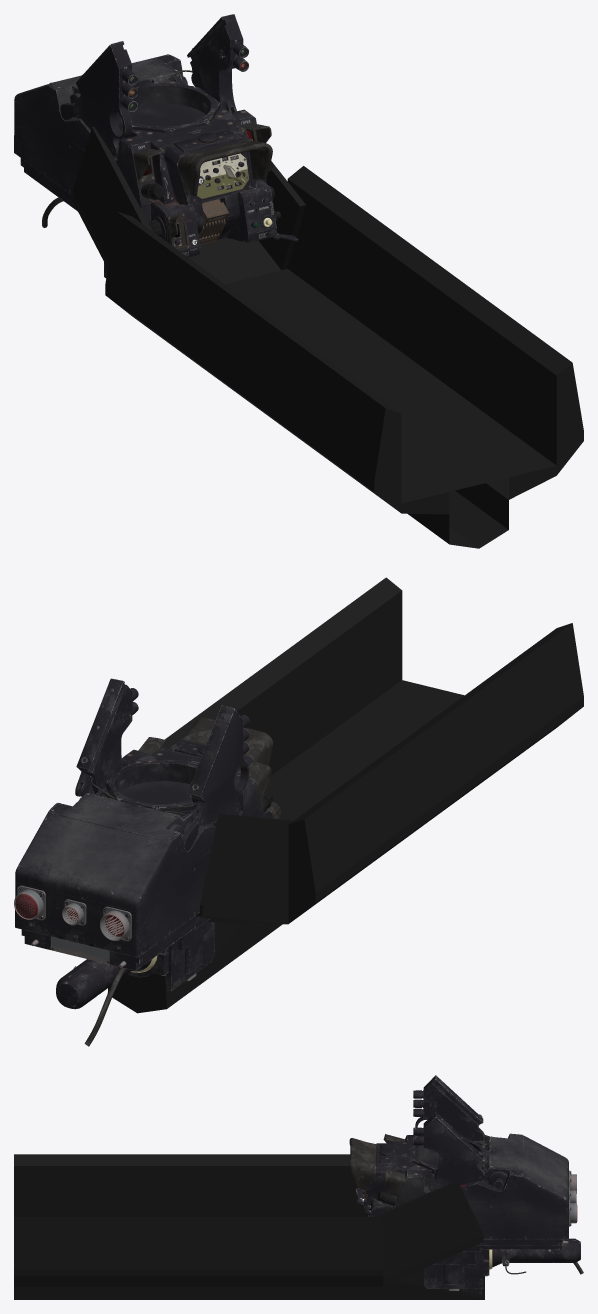
File: cockpit-template.fbx
3 views of the same model, one above another, from view 1: azimuth 30°, elevation 25°; view 2: azimuth 150°, elevation 25°; view 3: azimuth 270°, elevation 25° (orthographic). The views are drawn at different scales.
Visible parts, largest first — view 1: Main.001; view 2: Main.001; view 3: Main.001.
Boxes of the visible parts, x1,y1,x2,y2 form: Main.001: (14,14,583,548); Main.001: (14,577,583,1046); Main.001: (14,1075,583,1299).
Size of the model in its own units: 97.53 by 131 by 335.
